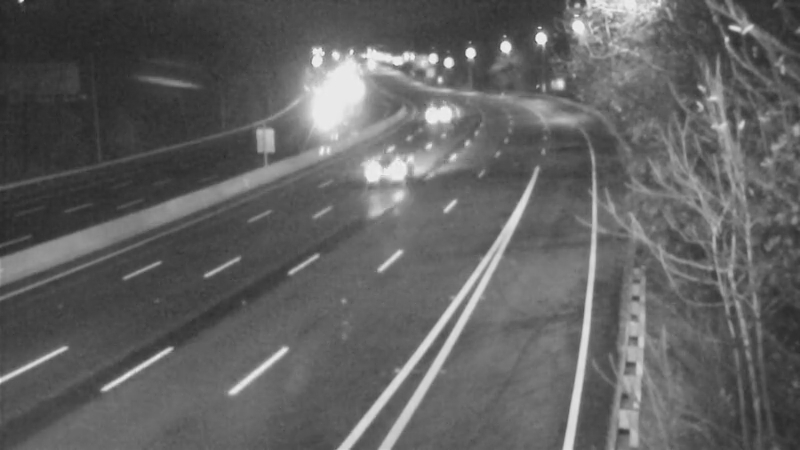vehicle: (339, 137, 419, 217), (405, 87, 455, 137), (297, 82, 347, 132)
